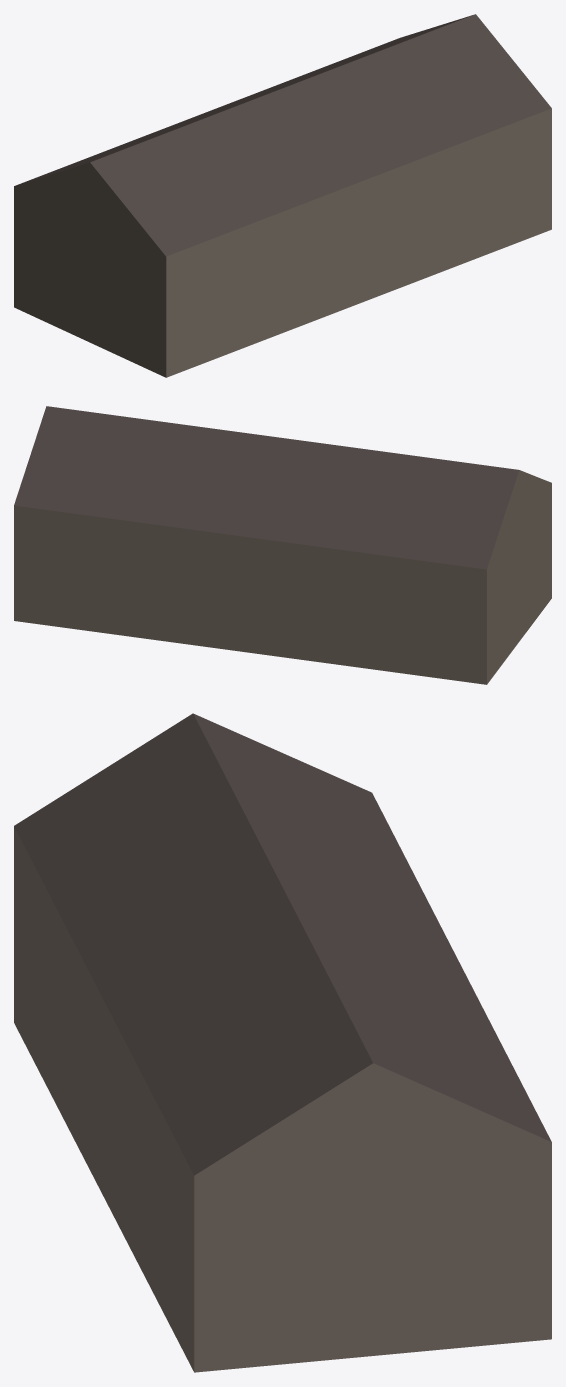
The picture shows the model from 3 angles, top to bottom: view 1: azimuth 30°, elevation 25°; view 2: azimuth 150°, elevation 25°; view 3: azimuth 270°, elevation 25°; orthographic projection. The views are drawn at different scales.
Visible parts, largest first — view 1: HP-w1367350983; view 2: HP-w1367350983; view 3: HP-w1367350983.
Boxes of the visible parts, x1,y1,x2,y2 form: HP-w1367350983: (14, 14, 551, 377); HP-w1367350983: (14, 406, 551, 684); HP-w1367350983: (14, 713, 551, 1372).
Bounding box in the file's own units: 25.03 × 8.92 × 14.86.
